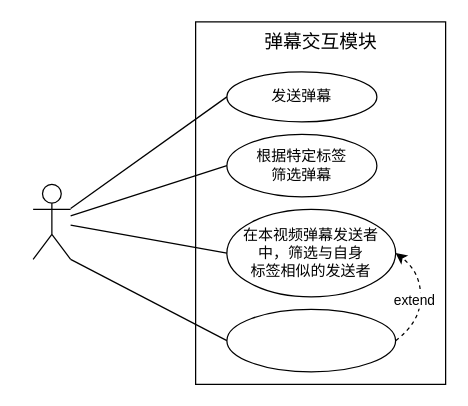
Image size: 468x406. Some labels were removed from this diagram. The box of each missing label's shape, as (x1, y1, x2, y2) in pixels:
普通用户: (32, 183, 71, 259)
查看指定发送者的弹幕: (226, 308, 396, 372)
